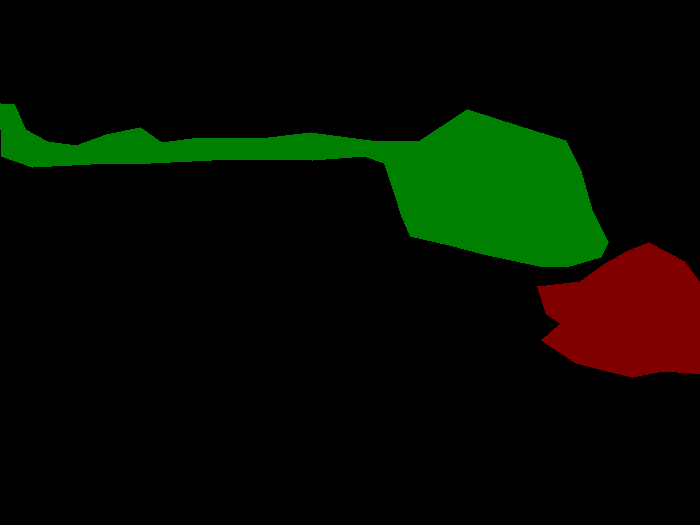fire: (0, 103, 608, 267), (537, 242, 699, 377)
